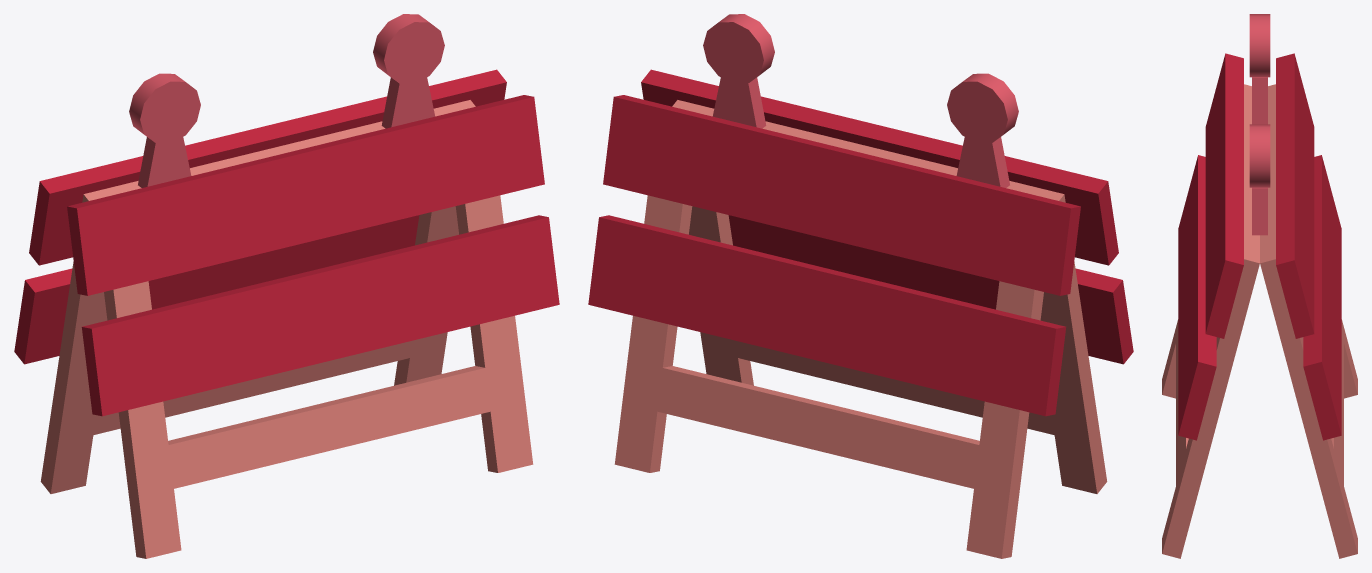
The model's file is barricade.fbx.
3 views of the same model, side by side, from view 1: azimuth 30°, elevation 25°; view 2: azimuth 150°, elevation 25°; view 3: azimuth 270°, elevation 25° (orthographic). The views are drawn at different scales.
Parts seen in each view (by area): view 1: Cube.000; view 2: Cube.000; view 3: Cube.000.
Boxes of the visible parts, x1,y1,x2,y2 form: Cube.000: [14, 14, 559, 558]; Cube.000: [588, 14, 1133, 558]; Cube.000: [1162, 14, 1357, 558].
Size of the model in its own units: 200 by 180 by 80.
